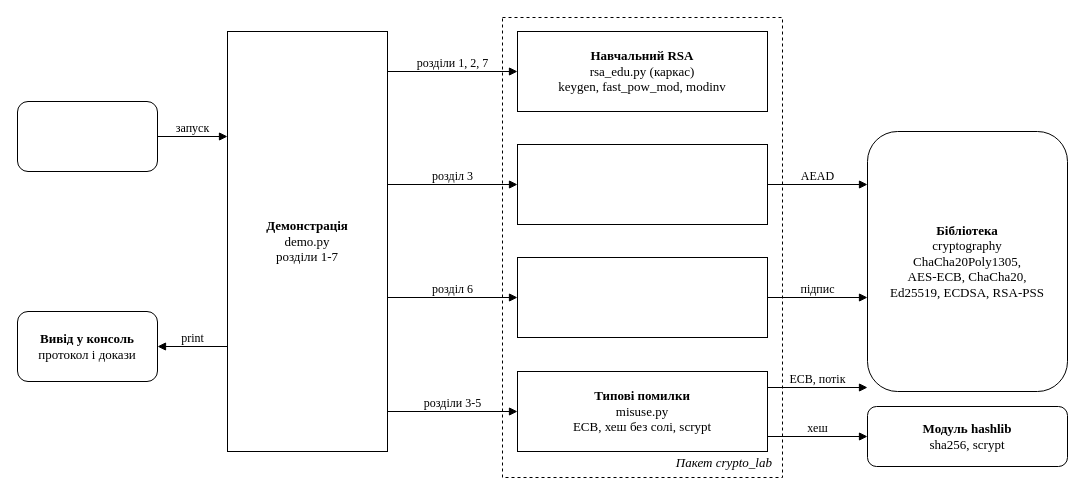
Image size: 1085x495. Some labels were removed from this diagram. The centre of each missing label's shape, as x and y in pixels:
Електронний підпис sign_demo.py Ed25519, порівняння схем: point 642,297
Користувач python demo.py: point 87,136
Шифрування AEAD aead.py encrypt, decrypt, nonce 12 байтів: point 642,184
